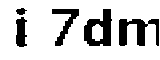7: (45, 6, 79, 50)
d: (83, 5, 114, 52)
i: (9, 4, 35, 50)
m: (115, 14, 160, 50)
